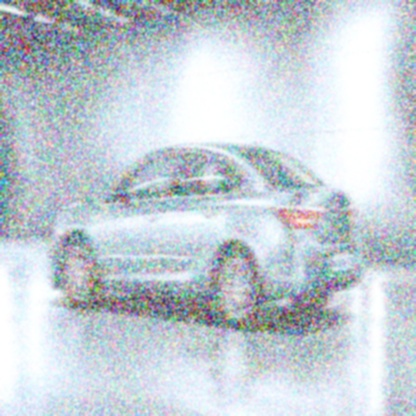Vehicle: (49, 139, 362, 332)
